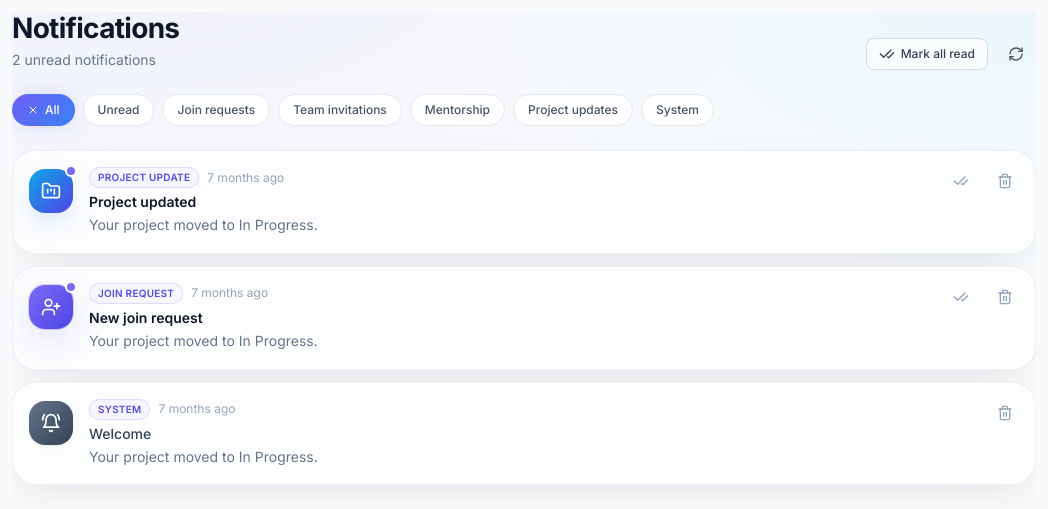
Test: NotificationsPage › filters by type
Expected: the text "Project updated" is shown, [89,193,196,210]
Click the button "System": (677, 110) [641,94,714,126]
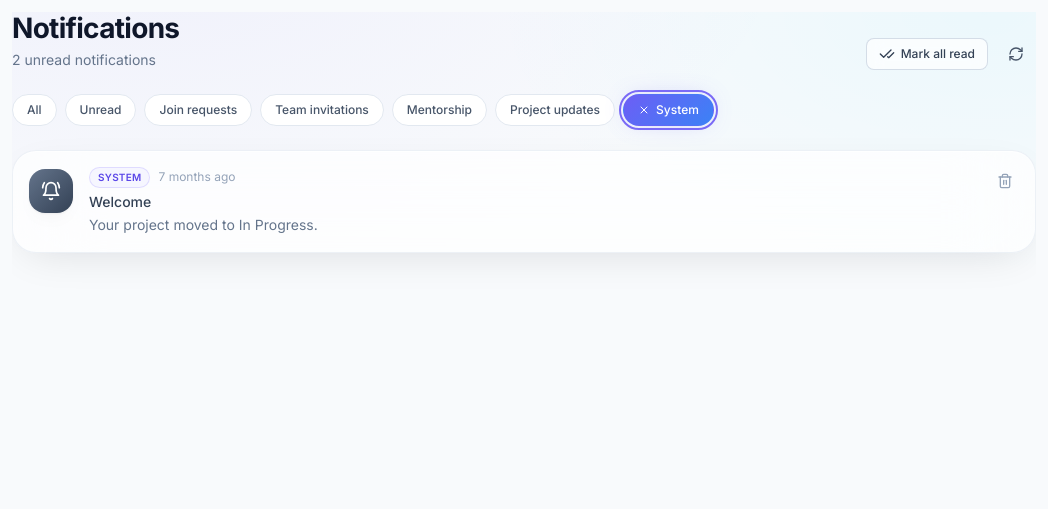
Expected: the text "Welcome" is shown, [89,193,151,210]
Expected: the text "Project updated" is gone
